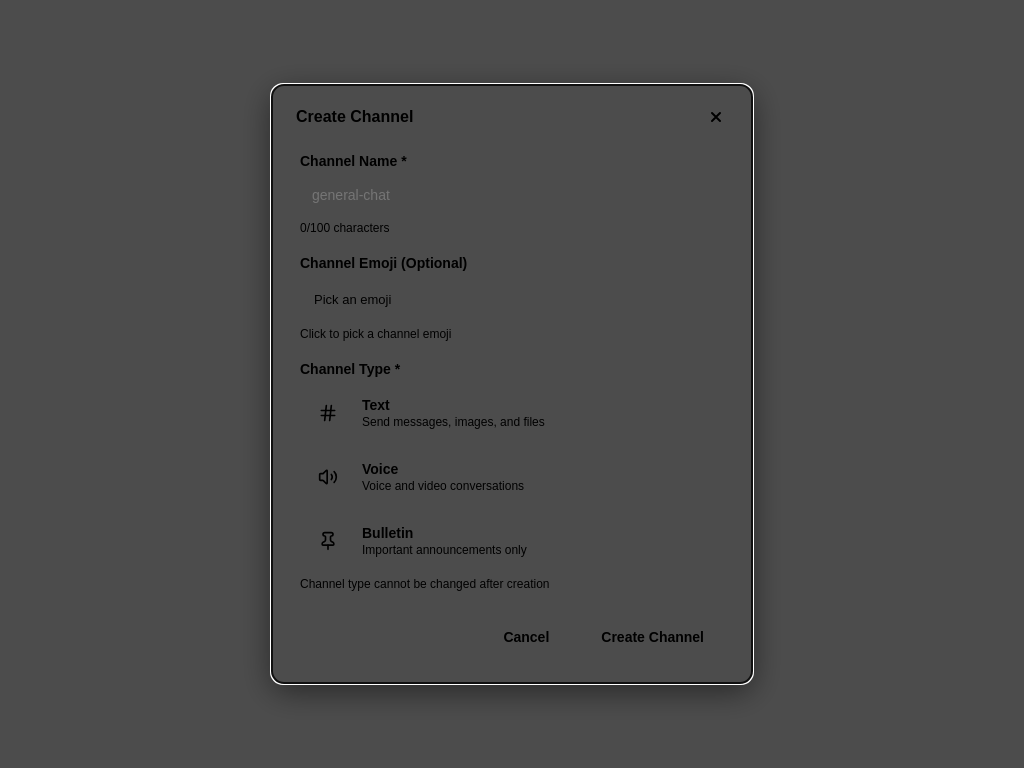
Test case: CreateChannelModal › submits valid form
Type "new-channel" into the field with placeholder "general-chat" at (512, 195), box [300,177,724,213]
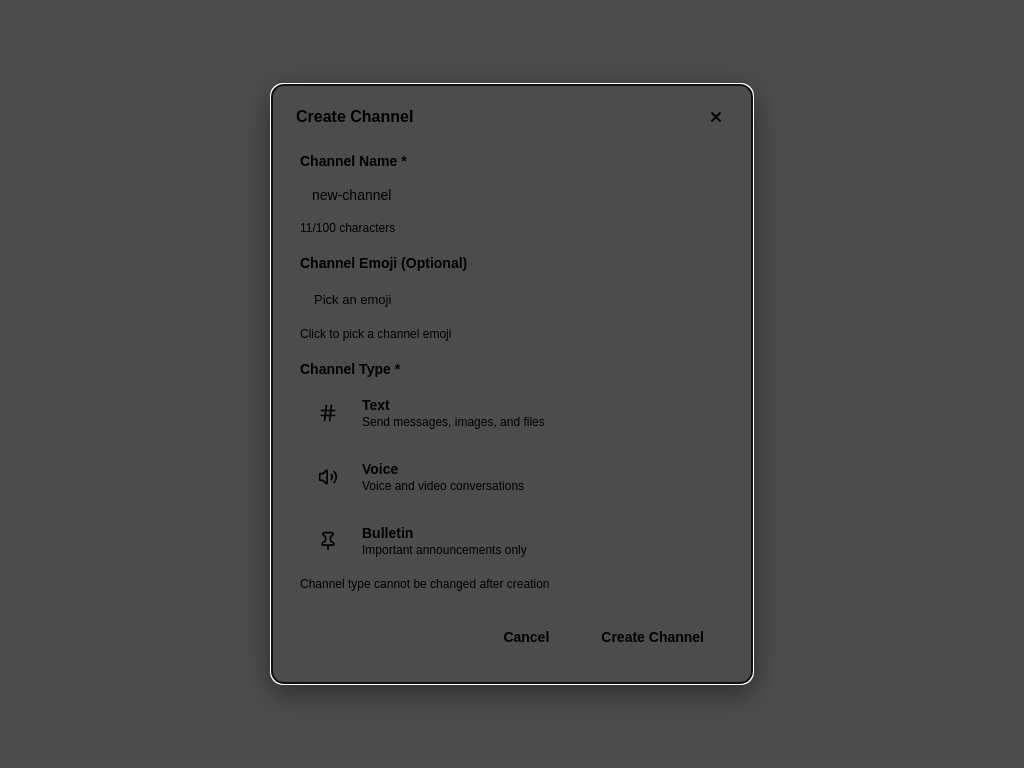
Click the button "Create Channel" at (653, 637), box [581,619,724,655]
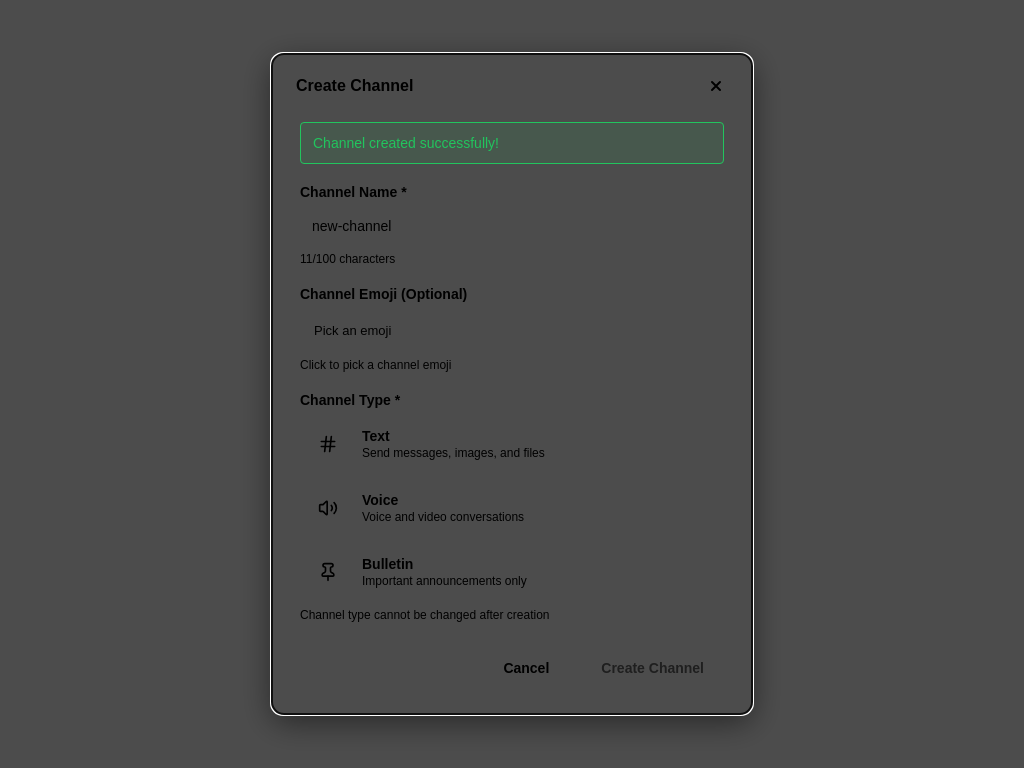
Expected: the text "Channel created successfully!" is shown, [300,122,724,164]
